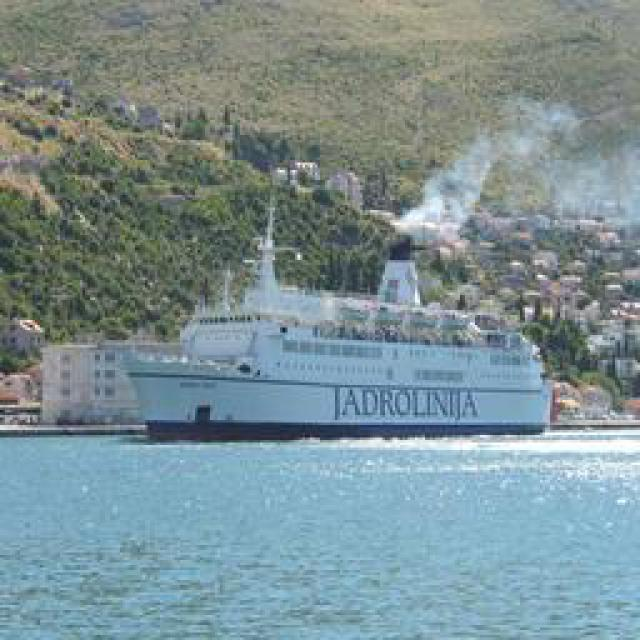Ship: (131, 295, 551, 438)
